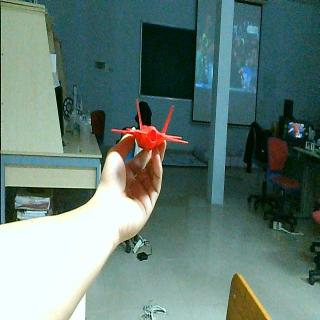Jet: (111, 100, 189, 150)
